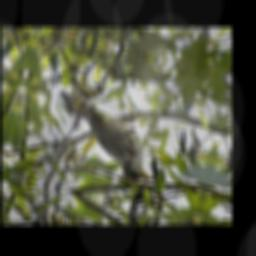Cuckoo: (35, 48, 180, 187)
